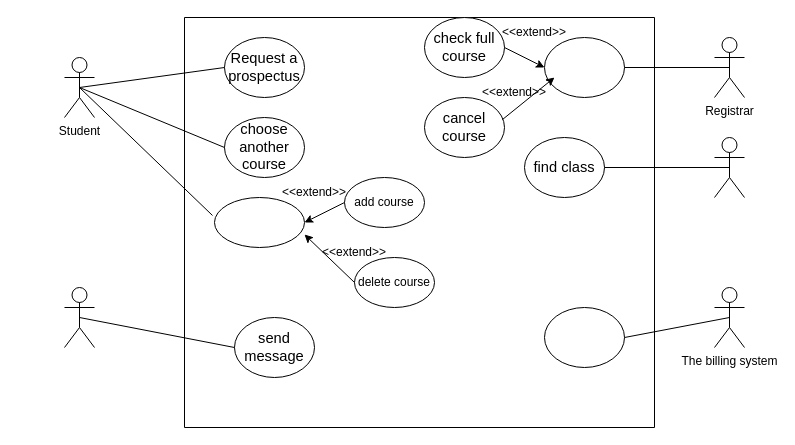
This 795x445 diagram has some shape labels left out. Each missing label, with the centre of its shape:
"administrator the system" goes at pixel 584 67.
"change schedule" goes at pixel 259 222.
"send out a bill" goes at pixel 584 337.
"The registration system" goes at pixel 79 317.
"Tutor" goes at pixel 729 167.
